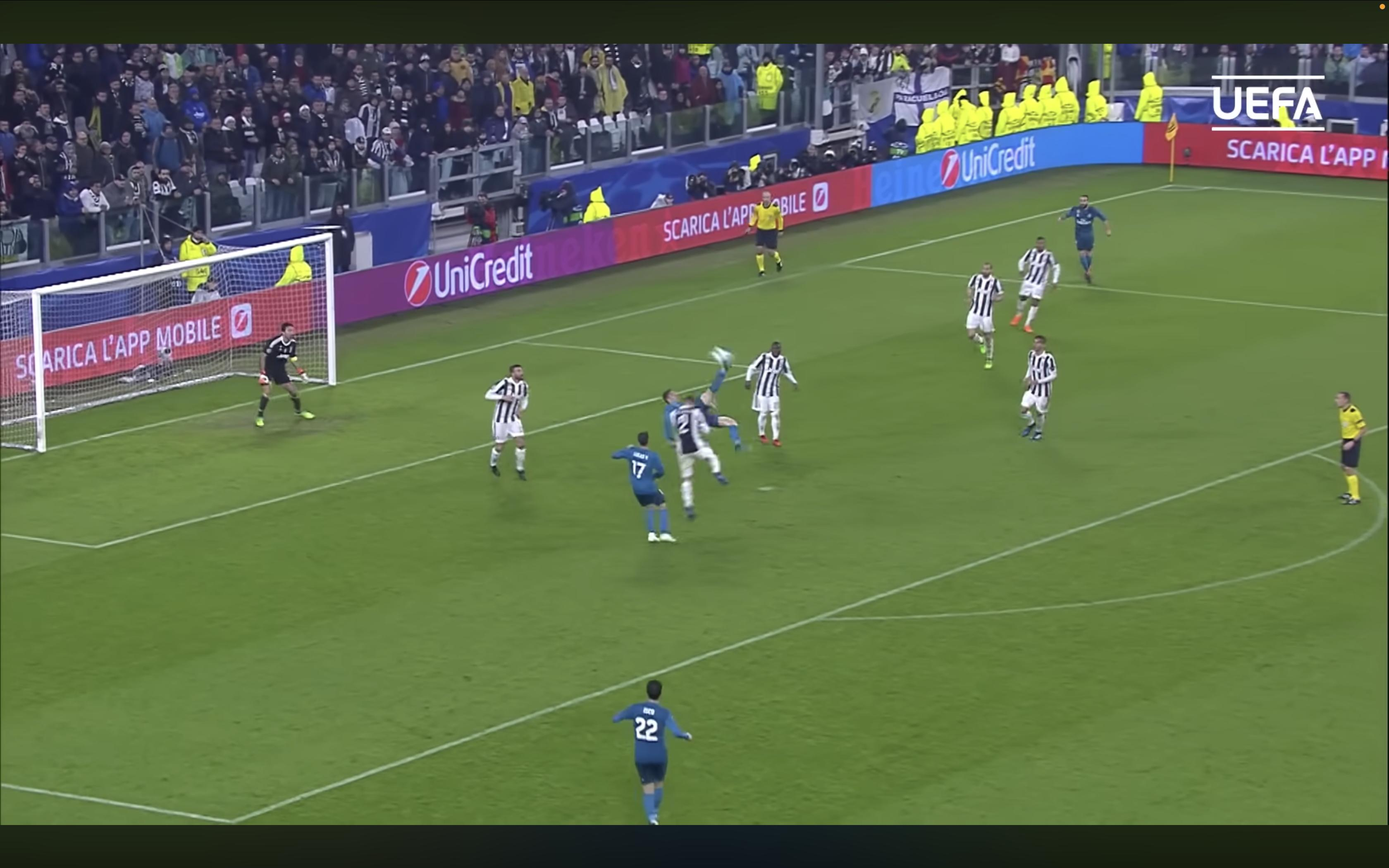ball: (709, 346, 734, 367)
player: (613, 680, 692, 825), (612, 432, 675, 542), (672, 396, 728, 519), (745, 342, 798, 446), (484, 365, 528, 480), (1010, 237, 1060, 333), (1058, 196, 1111, 283), (696, 360, 742, 451), (965, 263, 1004, 369), (1020, 335, 1057, 440)
referee: (255, 324, 314, 427), (1336, 391, 1366, 505), (745, 191, 784, 277)
